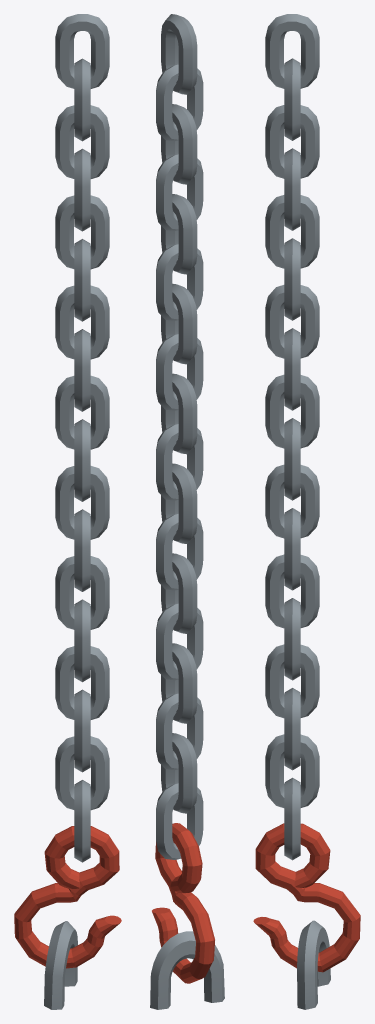
Rendered from chain.fbx.
3 renders of one model, left to right at view 1: azimuth 90°, elevation 25°; view 2: azimuth 210°, elevation 25°; view 3: azimuth 270°, elevation 25°, orthographic.
Visible parts, largest first — view 1: chain; view 2: chain; view 3: chain.
Part boxes in pixels (x1,y1,x2,y2): chain: (14,14,121,1009); chain: (150,14,224,1009); chain: (253,14,360,1009).
Bounding box in the file's own units: 21.34 × 303 × 30.14.
1 material, 1 textured.
